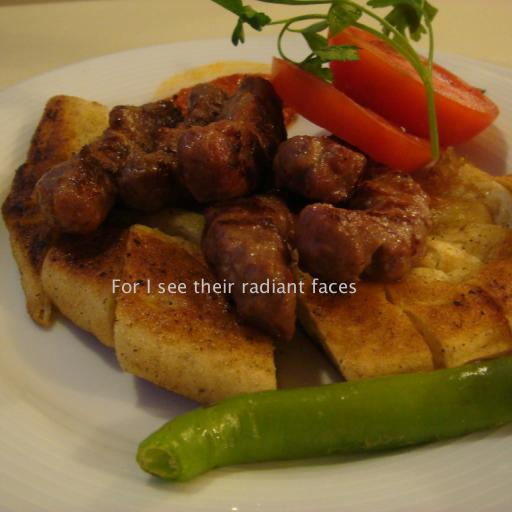Lucida Grande: (110, 278, 358, 294)
